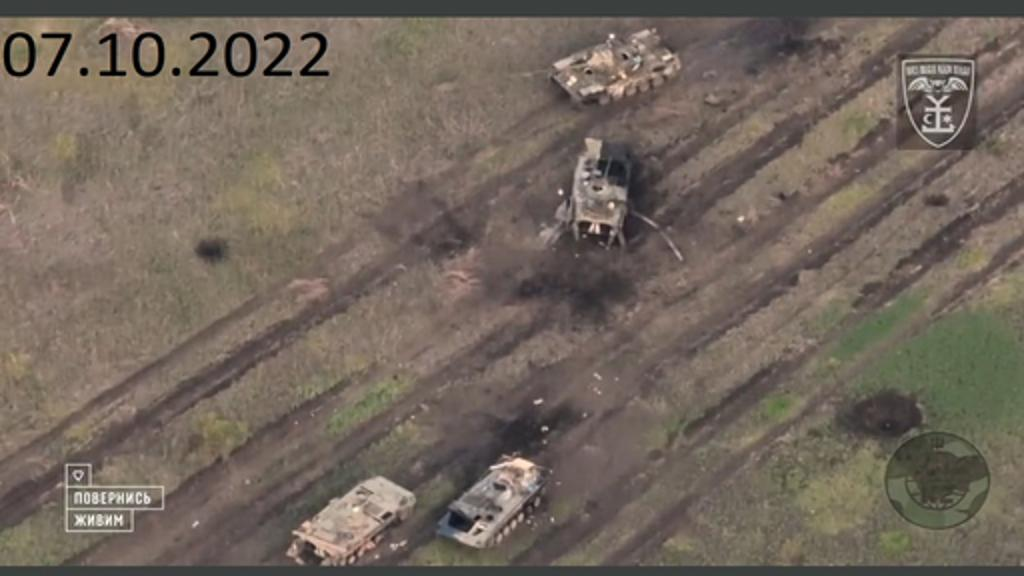APC-IFV: (288, 456, 418, 558), (436, 444, 556, 550), (564, 134, 646, 262)
TANK: (514, 24, 682, 106)
